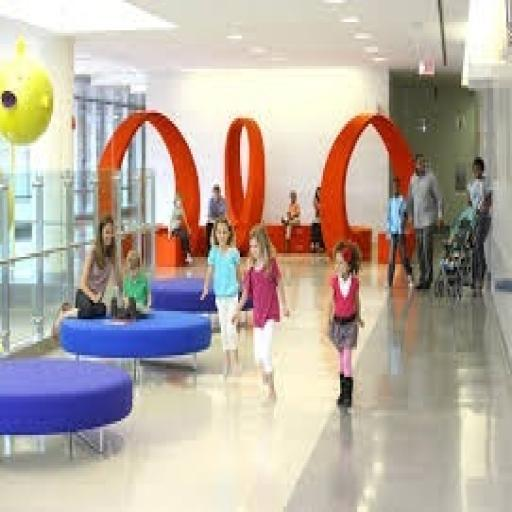running: (228, 223, 292, 405), (198, 215, 246, 380), (323, 237, 367, 410), (382, 170, 416, 292), (113, 245, 153, 322)
